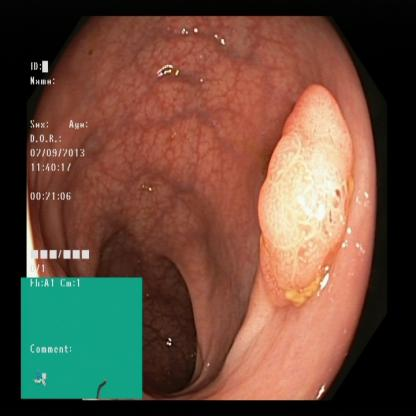Labels: (28, 54, 98, 273)
Polyps: (256, 82, 356, 306), (21, 278, 144, 401)
